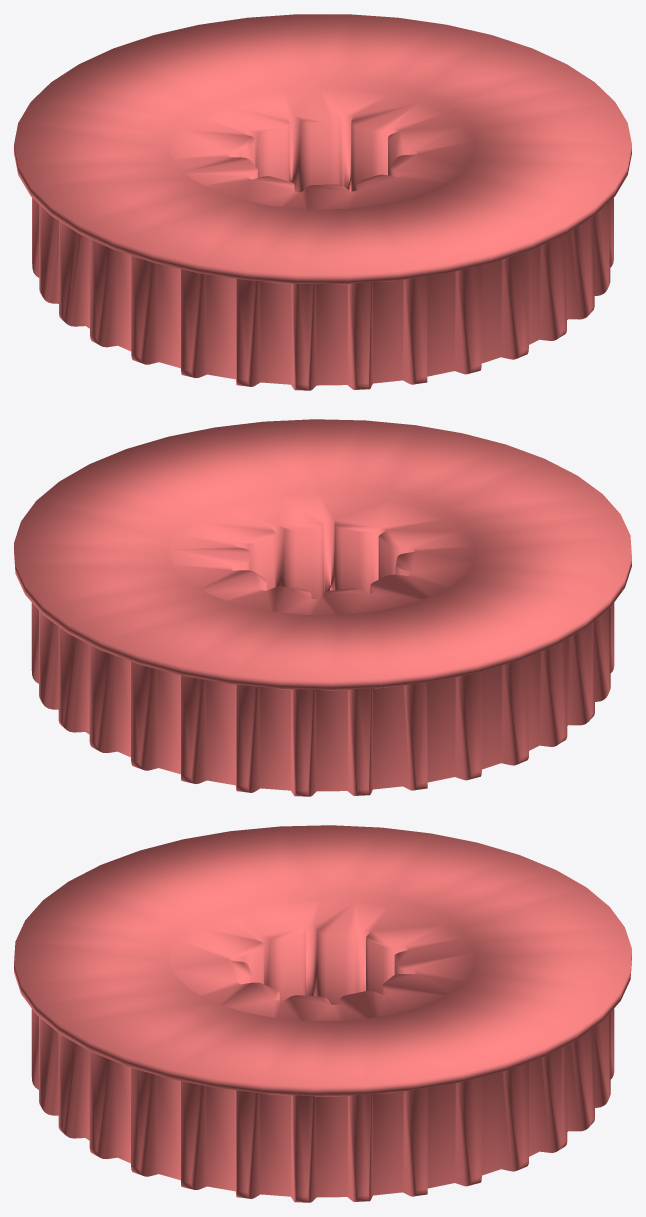
The model's file is solo12_hip_fe_hr_17.obj.
The picture shows the model from 3 angles, top to bottom: view 1: azimuth 30°, elevation 25°; view 2: azimuth 150°, elevation 25°; view 3: azimuth 270°, elevation 25°; orthographic projection.
Size of the model in its own units: 0.03 by 0.0076 by 0.03.
